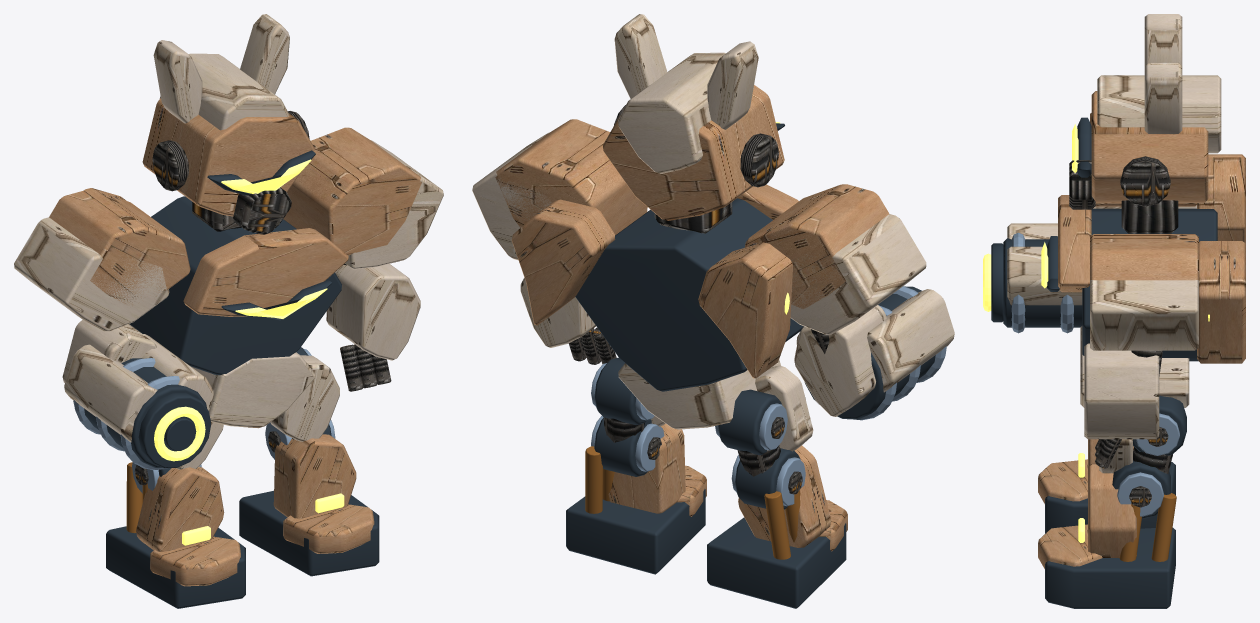
File: scout.glb
The picture shows the model from 3 angles, left to right: view 1: azimuth 30°, elevation 25°; view 2: azimuth 150°, elevation 25°; view 3: azimuth 270°, elevation 25°; orthographic projection. The views are drawn at different scales.
Visible parts, largest first — view 1: Navy crown, Cuirass yoke, Angular scout torso, Greave armor, Greave armor.001, Neck actuator, Servo housing.004, Servo housing.001, Recessed V optic, Tapered thigh shield.001, Bearing ring, Calf piston; view 2: Cuirass yoke, Navy crown, Angular scout torso, Servo housing.001, Servo housing.004, Greave armor.001, Neck actuator, Greave armor, Tapered thigh shield, Bearing ring.002, Calf piston, Calf piston.002 (+4 smaller); view 3: Navy crown, Cuirass yoke, Servo housing.004, Angular scout torso, Neck actuator, Greave armor.001, Greave armor, Bearing ring.008, Calf piston.002, Servo housing.001, Hub.008, Recessed V optic (+2 smaller).
Part boxes in pixels (bbox=[...]): Navy crown: bbox=[14, 14, 443, 442]; Cuirass yoke: bbox=[49, 98, 421, 316]; Angular scout torso: bbox=[73, 150, 341, 468]; Greave armor: bbox=[136, 466, 240, 586]; Greave armor.001: bbox=[273, 434, 374, 553]; Neck actuator: bbox=[152, 111, 391, 391]; Servo housing.004: bbox=[239, 347, 379, 576]; Servo housing.001: bbox=[106, 468, 245, 608]; Recessed V optic: bbox=[154, 159, 327, 461]; Tapered thigh shield.001: bbox=[270, 355, 339, 441]; Bearing ring: bbox=[73, 358, 179, 469]; Calf piston: bbox=[126, 462, 147, 533]; Cuirass yoke: bbox=[495, 85, 889, 378]; Navy crown: bbox=[472, 14, 954, 429]; Angular scout torso: bbox=[575, 123, 935, 419]; Servo housing.001: bbox=[707, 389, 846, 608]; Servo housing.004: bbox=[566, 357, 705, 574]; Greave armor.001: bbox=[608, 424, 706, 516]; Neck actuator: bbox=[568, 105, 829, 364]; Greave armor: bbox=[738, 445, 847, 551]; Tapered thigh shield: bbox=[755, 365, 813, 451]; Bearing ring.002: bbox=[715, 403, 805, 506]; Calf piston: bbox=[764, 490, 800, 559]; Calf piston.002: bbox=[585, 446, 614, 513]; Navy crown: bbox=[1007, 14, 1221, 439]; Cuirass yoke: bbox=[1058, 91, 1245, 363]; Servo housing.004: bbox=[1045, 395, 1186, 608]; Angular scout torso: bbox=[991, 117, 1217, 361]; Neck actuator: bbox=[1069, 156, 1178, 468]; Greave armor.001: bbox=[1038, 463, 1136, 568]; Greave armor: bbox=[1038, 439, 1133, 503]; Bearing ring.008: bbox=[1117, 413, 1179, 516]; Calf piston.002: bbox=[1119, 493, 1176, 561]; Servo housing.001: bbox=[1045, 462, 1175, 533]; Hub.008: bbox=[1129, 427, 1172, 507]; Recessed V optic: bbox=[983, 124, 1078, 311].
Size of the model in its own units: 1.17 by 1.52 by 0.699.
Materials: 8 (3 with a texture image).
